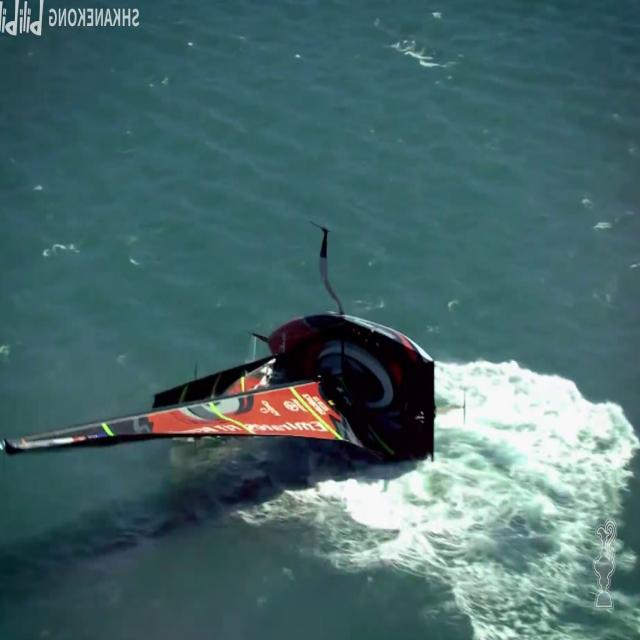sailboat: (0, 302, 449, 474)
